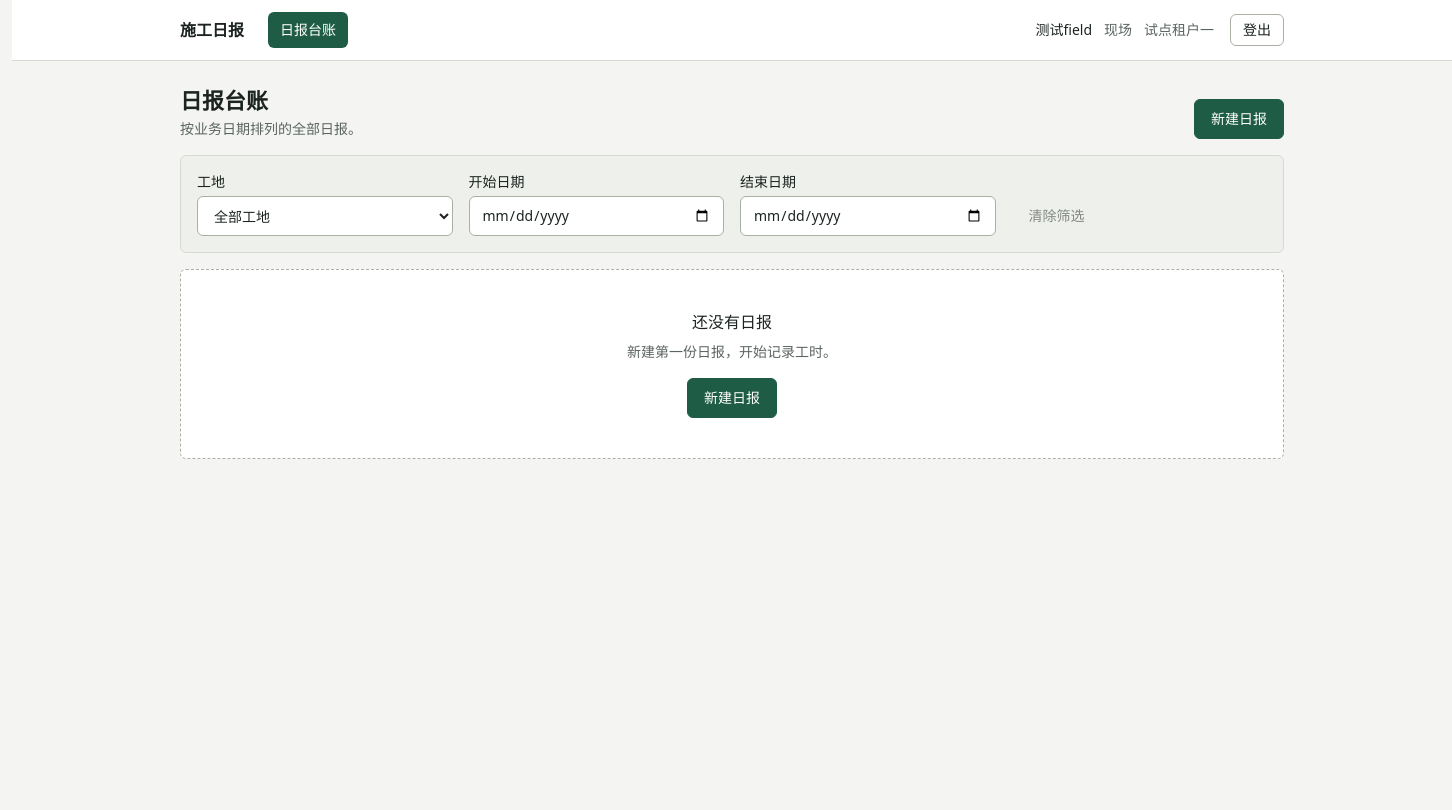
Test case: Layout › logs out and returns to /login
Click the button "登出" at x=1257, y=30, box [1230,14,1284,46]
(page scrolled)
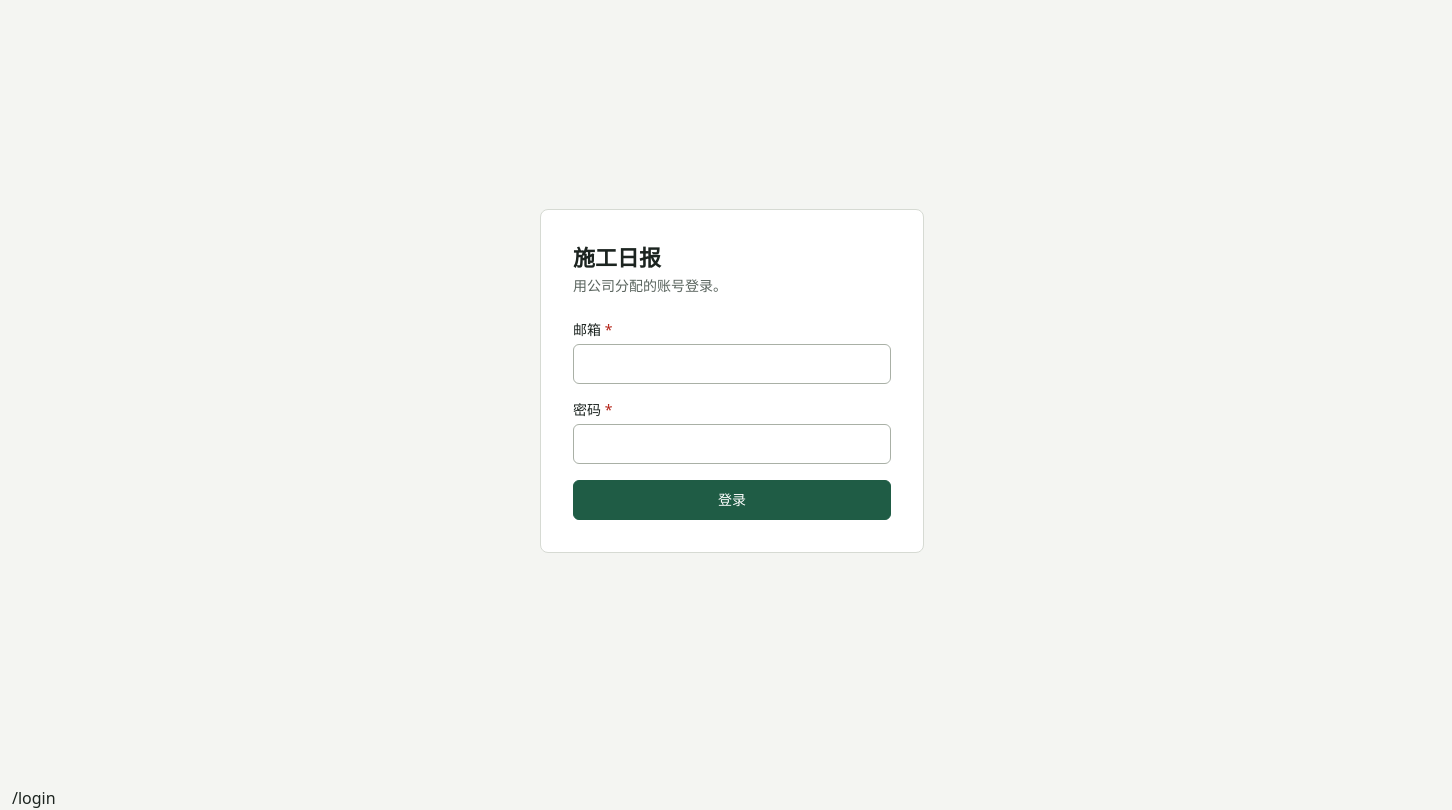
Expected: the text with test id "location" reads "/login", [12,787,56,809]
